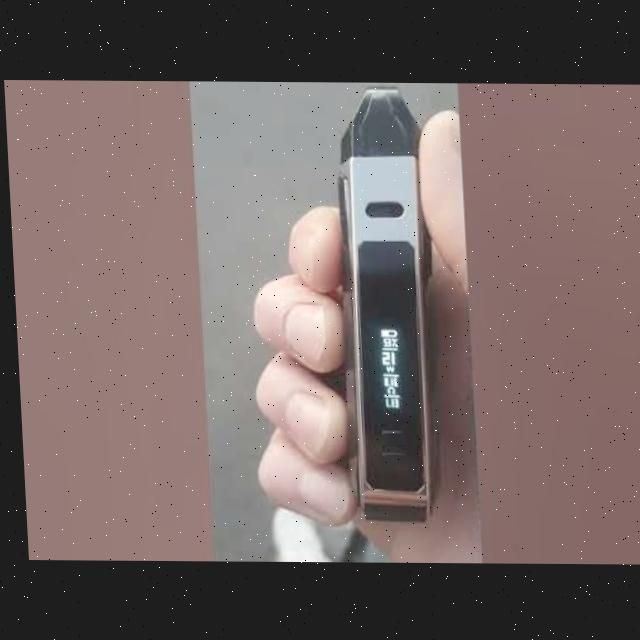vape: (329, 87, 440, 525)
